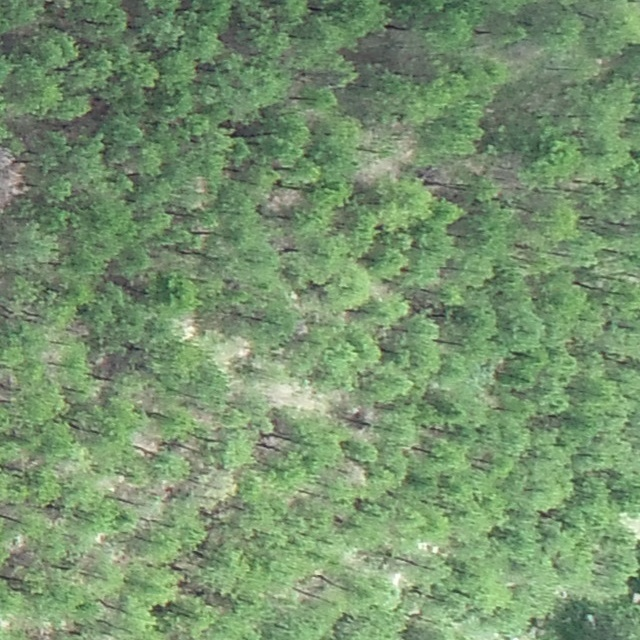unhealthy: (0, 144, 24, 210), (340, 458, 368, 486), (26, 620, 56, 639)
